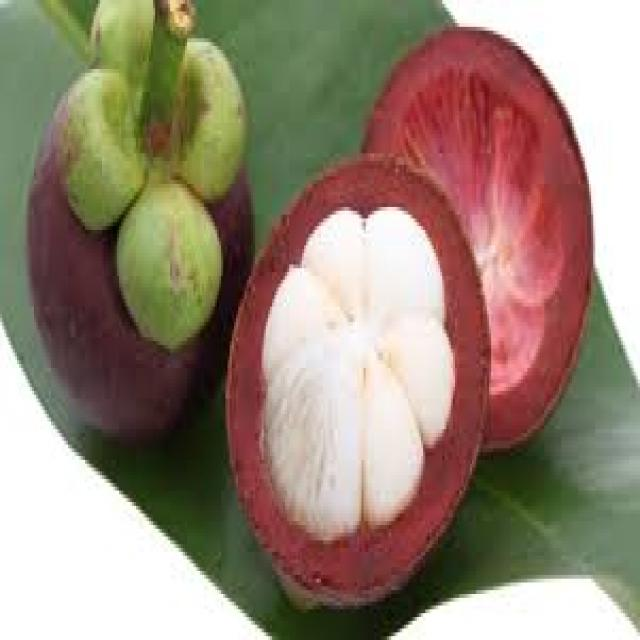organic waste: (225, 176, 585, 575), (0, 0, 434, 307), (223, 153, 491, 613), (353, 23, 593, 460), (25, 0, 253, 448)
